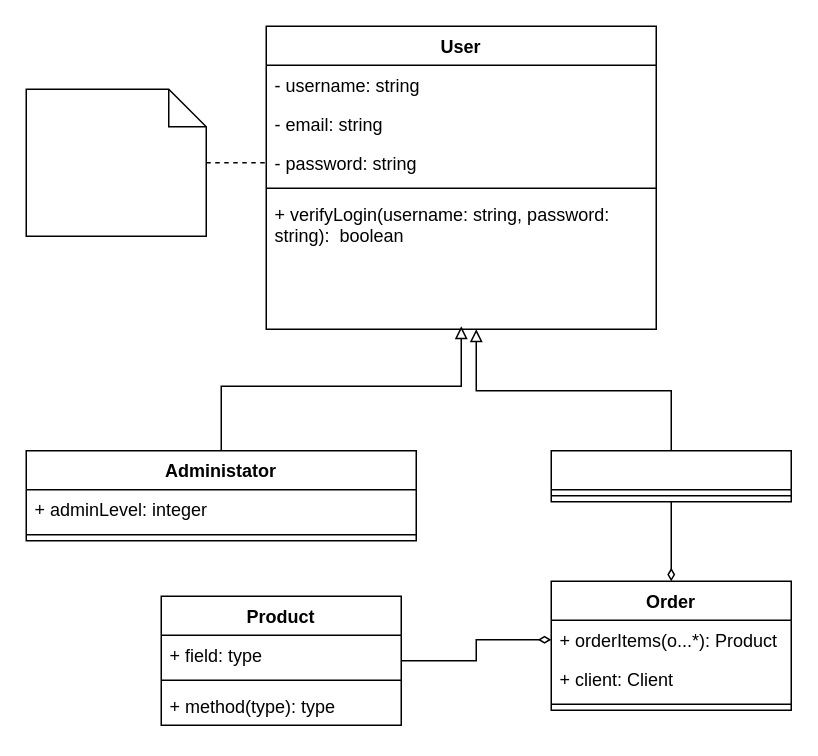
Image size: 818x756. Some labels were removed from this diagram. The shapes that lost their labels are listed below. From the top down, each one's centre as x and y in pixels, then its label:
point (115, 162): Passwords must meet the following: 10 Characters No special characters
point (670, 475): Client
